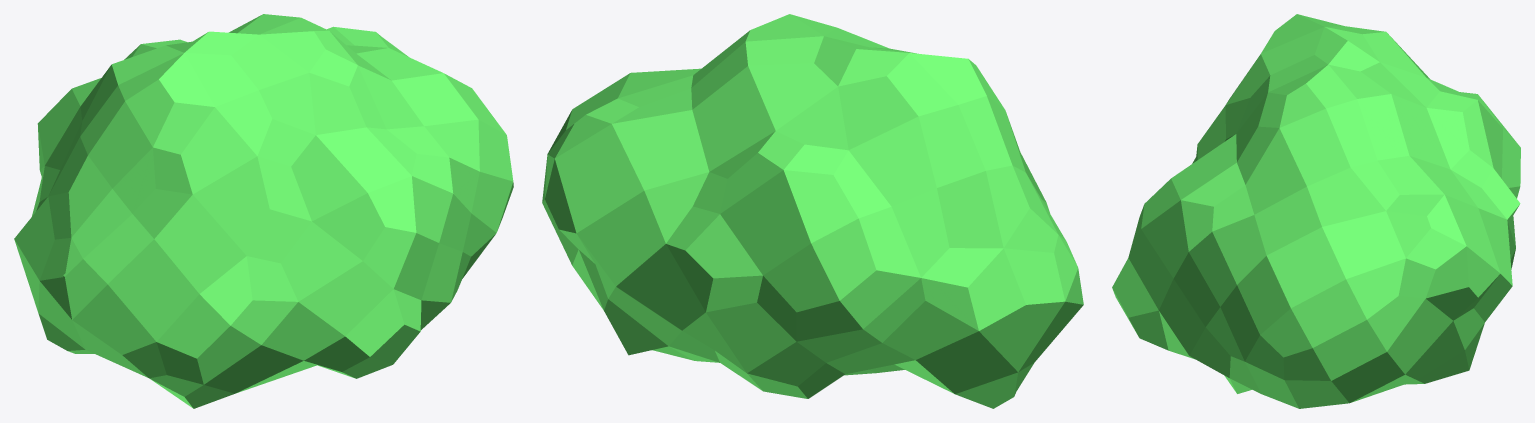
The model's file is Bush1.fbx.
3 renders of one model, left to right at view 1: azimuth 30°, elevation 25°; view 2: azimuth 150°, elevation 25°; view 3: azimuth 270°, elevation 25°, orthographic. The views are drawn at different scales.
Visible parts, largest first — view 1: Bush1; view 2: Bush1; view 3: Bush1.
Part boxes in pixels (left/top/right/bottom): Bush1: left=14, top=14, right=513, bottom=408; Bush1: left=542, top=14, right=1083, bottom=408; Bush1: left=1112, top=14, right=1520, bottom=408.
Bounding box in the file's own units: 4.12 × 2.69 × 3.29.
